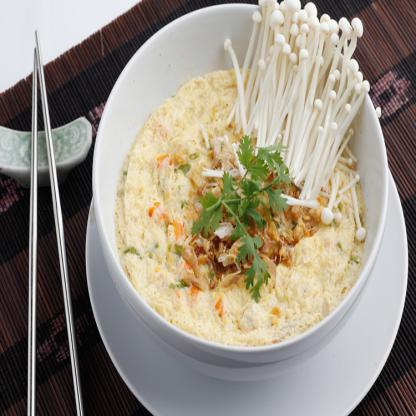Kaithoon: (102, 22, 384, 356)
